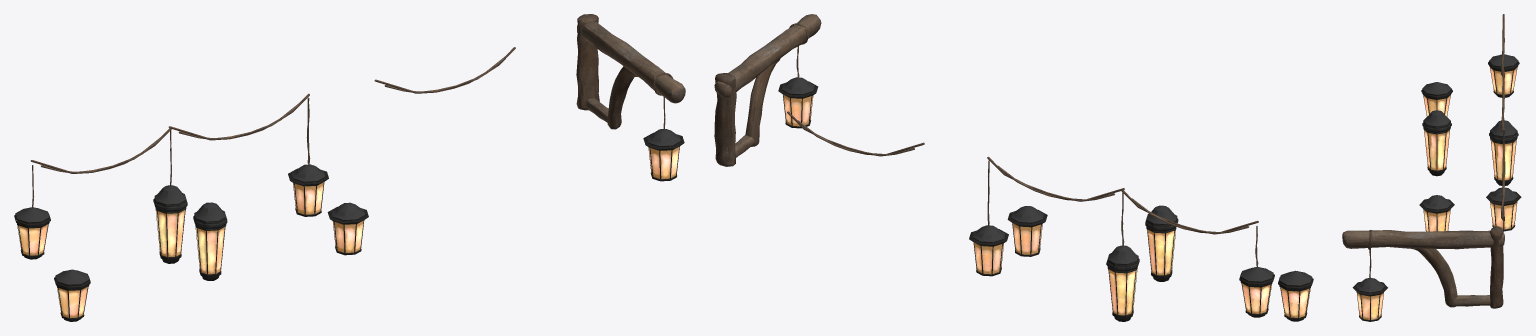
The model's file is Hanging_Lanterns_A1.fbx.
The picture shows the model from 3 angles, left to right: view 1: azimuth 30°, elevation 25°; view 2: azimuth 150°, elevation 25°; view 3: azimuth 270°, elevation 25°; orthographic projection. The views are drawn at different scales.
Visible parts, largest first — view 1: Hanging_Lantern_B1, Hanging_Lantern_A2, Lantern_A2, Hanging_Lantern_A3, Lantern_A3, Hanging_Lantern_A1, Lantern_A1, Hanging_Rope_A2, Hanging_Lantern_B1(Glass), Hanging_Rope_A1; view 2: Hanging_Lantern_B1, Hanging_Lantern_A2, Lantern_A2, Hanging_Lantern_A3, Hanging_Lantern_A1, Lantern_A3, Lantern_A1, Hanging_Rope_A2, Hanging_Lantern_B1(Glass), Hanging_Rope_A1; view 3: Hanging_Lantern_B1, Lantern_A2, Hanging_Lantern_A2, Hanging_Lantern_A3, Hanging_Lantern_A1, Lantern_A3, Lantern_A1, Hanging_Lantern_B1(Glass), Hanging_Rope_A2, Hanging_Rope_A1.
Boxes of the visible parts, <box> form: Hanging_Lantern_B1: <box>576,14,685,181</box>; Hanging_Lantern_A2: <box>153,130,187,263</box>; Lantern_A2: <box>193,202,227,280</box>; Hanging_Lantern_A3: <box>288,97,328,216</box>; Lantern_A3: <box>327,202,368,255</box>; Hanging_Lantern_A1: <box>14,165,50,259</box>; Lantern_A1: <box>54,269,90,321</box>; Hanging_Rope_A2: <box>30,93,309,173</box>; Hanging_Lantern_B1(Glass): <box>649,147,679,179</box>; Hanging_Rope_A1: <box>374,47,515,93</box>; Hanging_Lantern_B1: <box>714,14,821,166</box>; Hanging_Lantern_A2: <box>1106,192,1139,321</box>; Lantern_A2: <box>1145,205,1178,281</box>; Hanging_Lantern_A3: <box>969,160,1008,276</box>; Hanging_Lantern_A1: <box>1239,226,1274,317</box>; Lantern_A3: <box>1007,206,1047,256</box>; Lantern_A1: <box>1278,270,1313,321</box>; Hanging_Rope_A2: <box>987,156,1258,234</box>; Hanging_Lantern_B1(Glass): <box>783,94,812,126</box>; Hanging_Rope_A1: <box>787,111,924,156</box>; Hanging_Lantern_B1: <box>1342,226,1504,321</box>; Lantern_A2: <box>1422,110,1451,176</box>; Hanging_Lantern_A2: <box>1489,115,1518,185</box>; Hanging_Lantern_A3: <box>1486,131,1521,231</box>; Hanging_Lantern_A1: <box>1488,54,1519,97</box>; Lantern_A3: <box>1419,195,1454,231</box>; Lantern_A1: <box>1421,82,1452,116</box>; Hanging_Lantern_B1(Glass): <box>1357,293,1383,319</box>; Hanging_Rope_A2: <box>1501,14,1504,133</box>; Hanging_Rope_A1: <box>1501,157,1504,221</box>.
Size of the model in its own units: 851 by 205 by 269.
